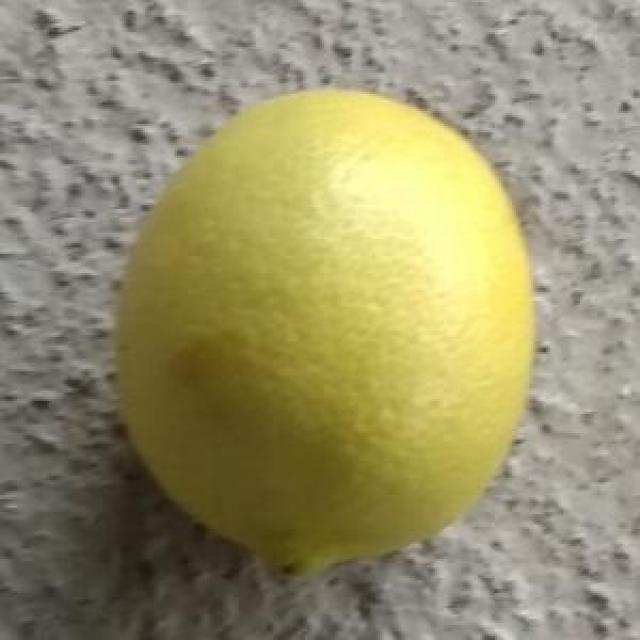lemon: (111, 84, 538, 572)
